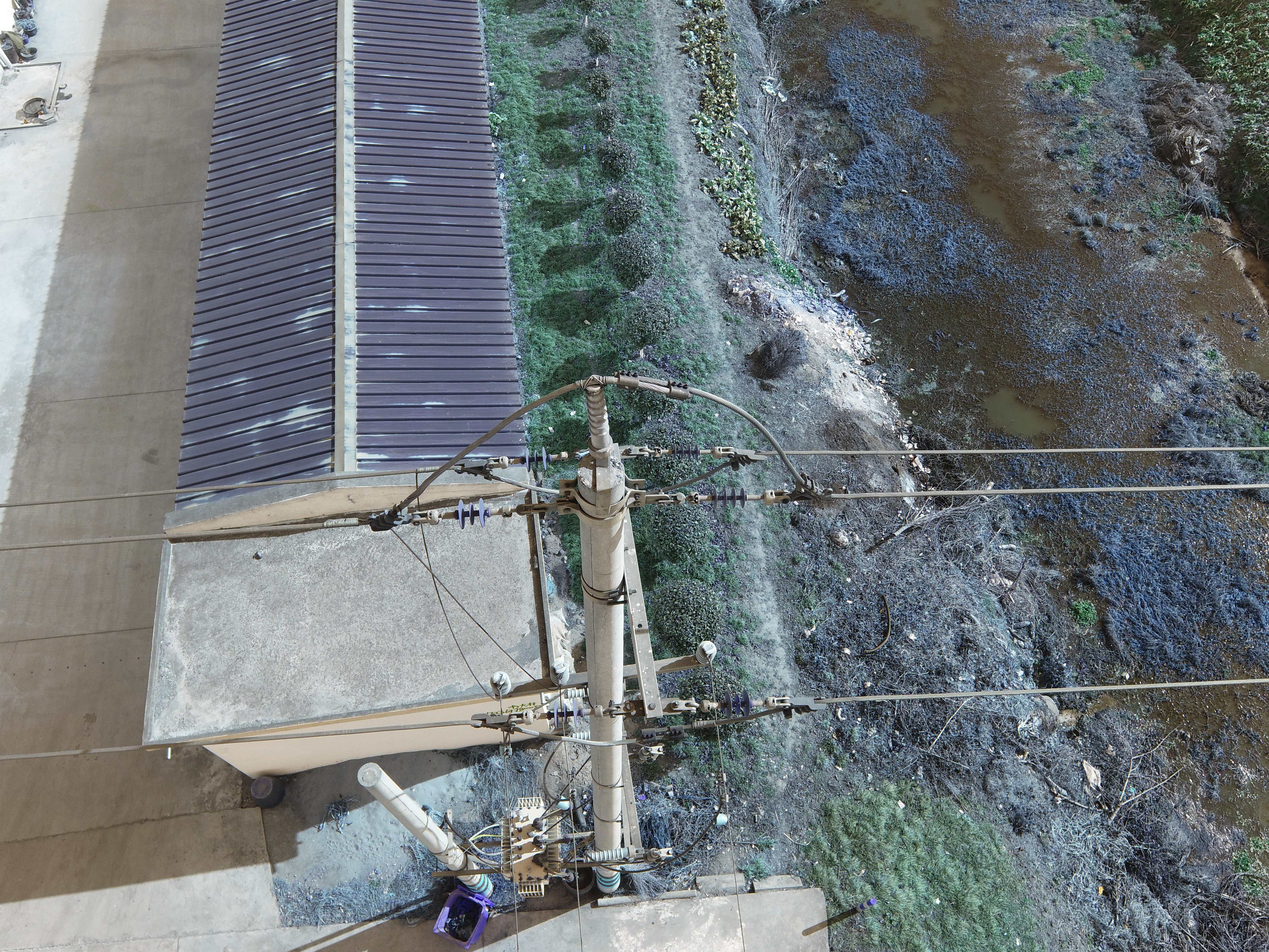severe_soiling_no_discharge_whole: (582, 377, 616, 461), (498, 477, 528, 489)
